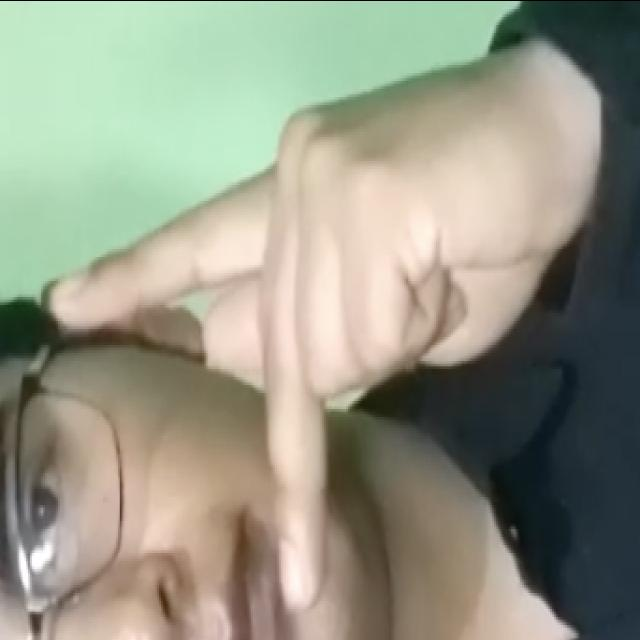P: (40, 35, 599, 615)
